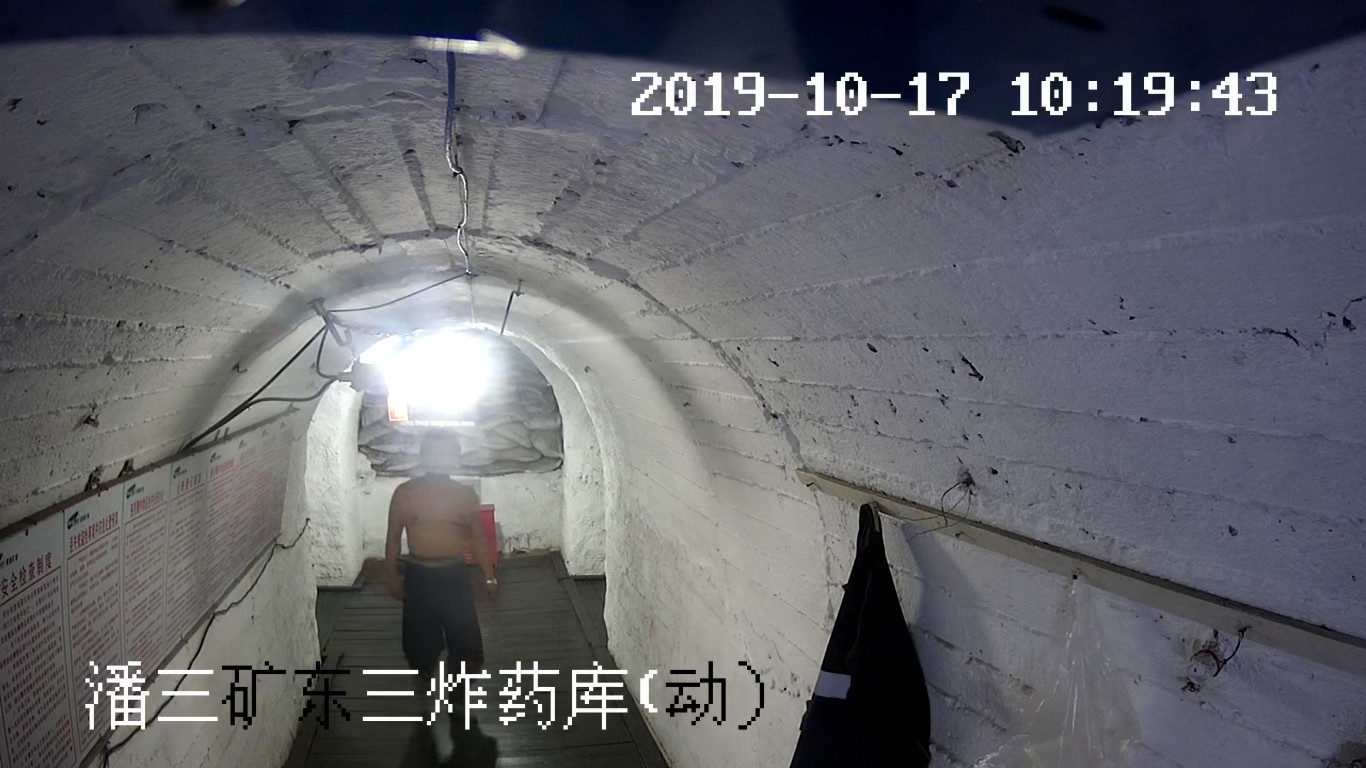helmet: (420, 427, 460, 453)
